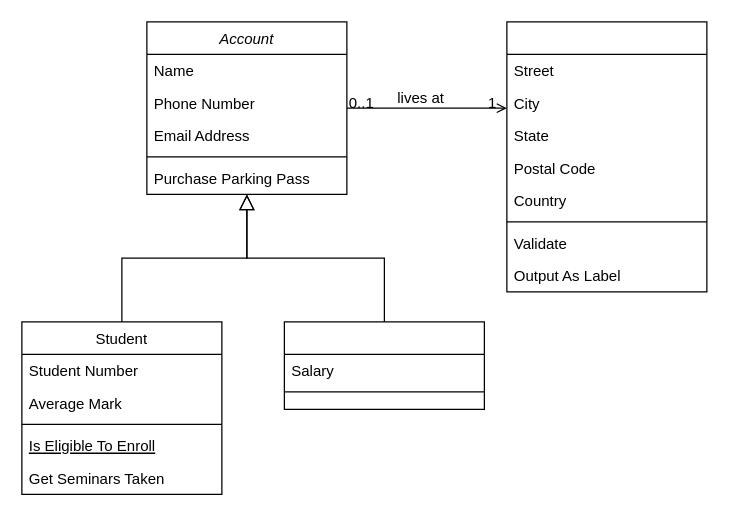
This 729x520 diagram has some shape labels left out. Here are the shapes that lost their labels. From the top down, the box of each, then its label:
(506, 21, 707, 292): Player
(283, 321, 484, 409): Artist
